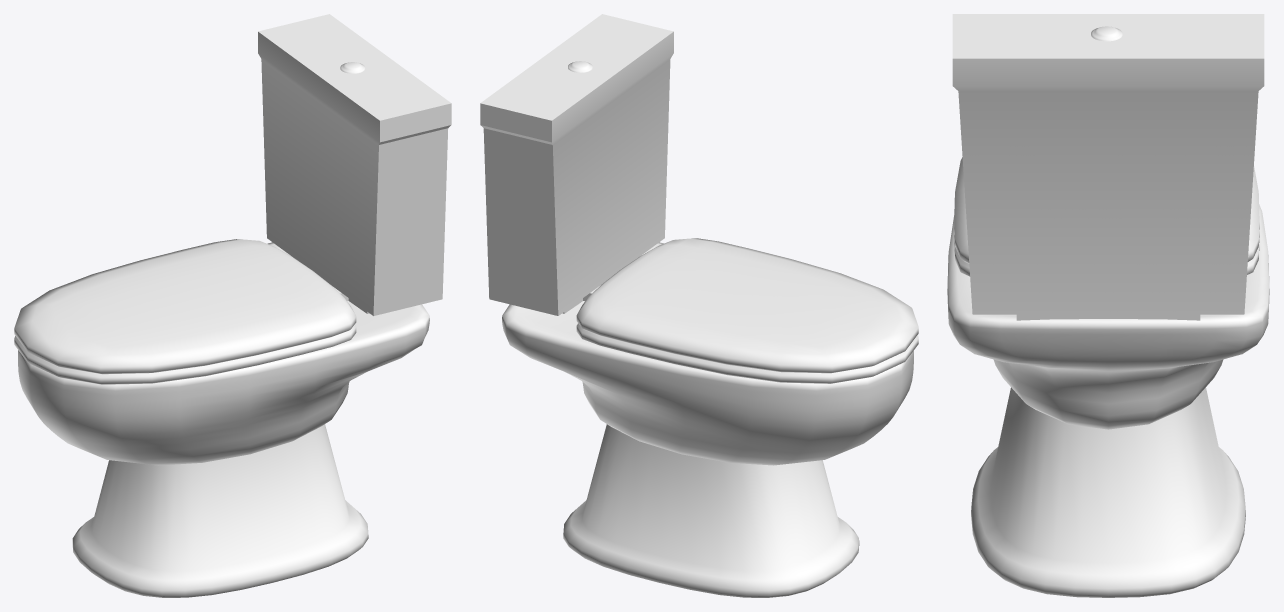
Rendered from vaterintacto2.fbx.
3 views of the same model, side by side, from view 1: azimuth 30°, elevation 25°; view 2: azimuth 150°, elevation 25°; view 3: azimuth 270°, elevation 25° (orthographic). The views are drawn at different scales.
Visible parts, largest first — view 1: vater intacto2; view 2: vater intacto2; view 3: vater intacto2.
Part boxes in pixels (<box>): vater intacto2: <box>14,14,451,597</box>; vater intacto2: <box>480,14,918,597</box>; vater intacto2: <box>947,14,1269,597</box>.
Size of the model in its own units: 1312 by 1545 by 789.
